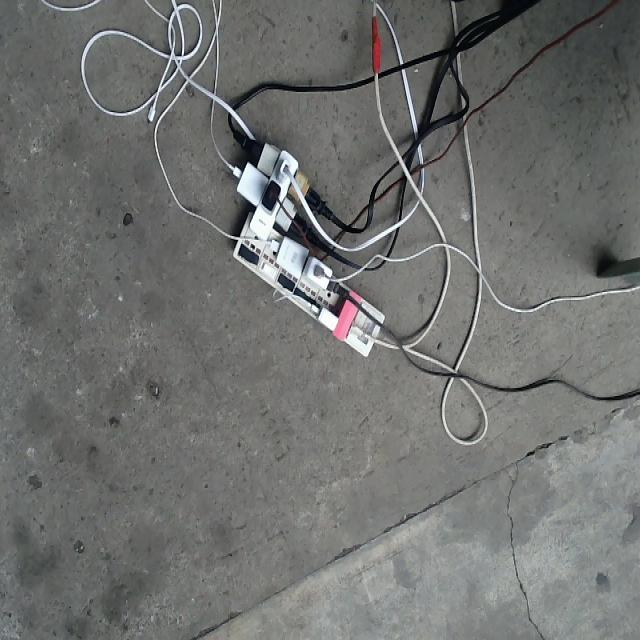-: (231, 141, 387, 359)
